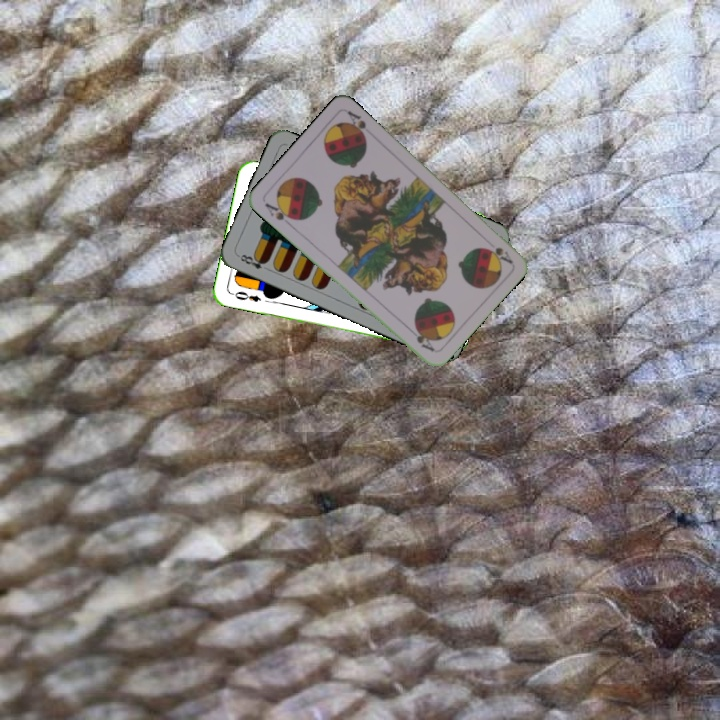E8: (234, 250, 270, 272)
EO: (227, 287, 264, 305)
SA: (261, 199, 298, 229), (484, 243, 515, 266)
